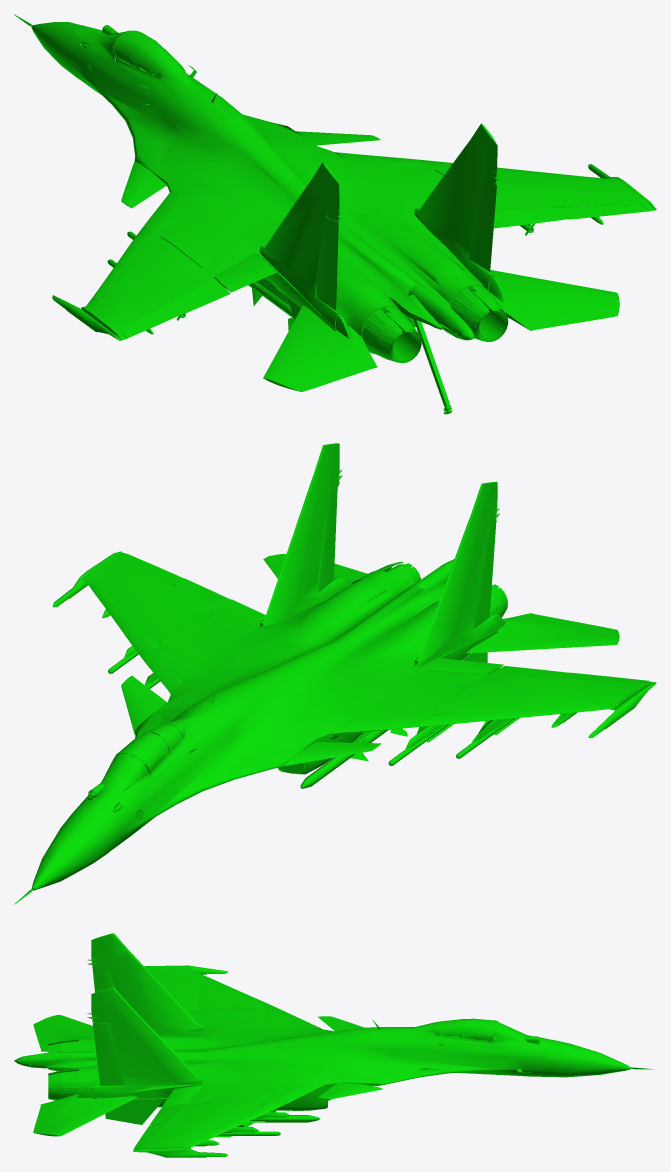
The model's file is green-16.glb.
3 renders of one model, top to bottom at view 1: azimuth 30°, elevation 25°; view 2: azimuth 150°, elevation 25°; view 3: azimuth 270°, elevation 25°, orthographic. The views are drawn at different scales.
Parts seen in each view (by area): view 1: pl12__GenericProjectile02; view 2: pl12__GenericProjectile02; view 3: pl12__GenericProjectile02.
Boxes of the visible parts, x1,y1,x2,y2 form: pl12__GenericProjectile02: (14, 14, 656, 414); pl12__GenericProjectile02: (14, 443, 656, 904); pl12__GenericProjectile02: (14, 933, 653, 1157).
Size of the model in its own units: 14.54 by 6.11 by 21.4.
